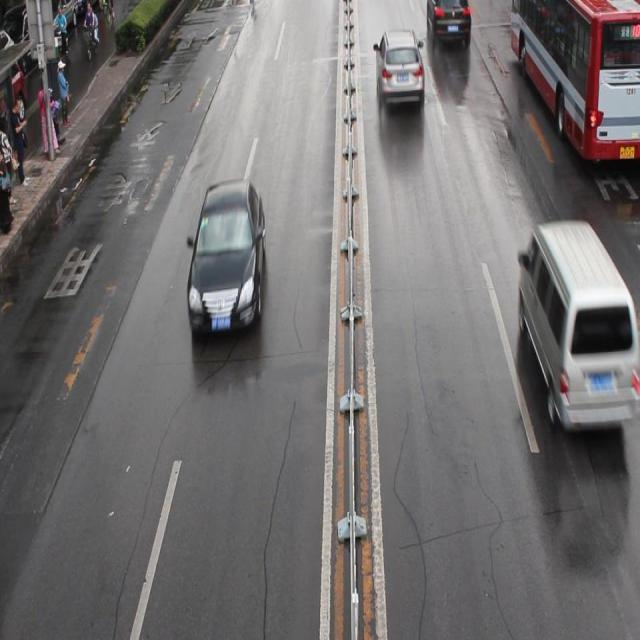car: (188, 183, 266, 330), (374, 29, 424, 105), (1, 54, 27, 138), (425, 1, 470, 44)
truck: (516, 225, 640, 424)
van: (510, 1, 640, 161)
